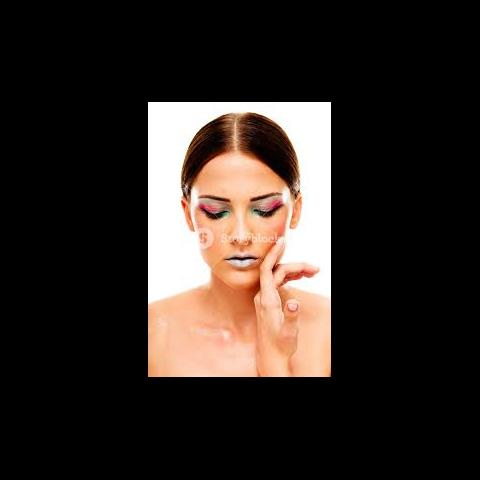closed: (193, 186, 288, 224)
